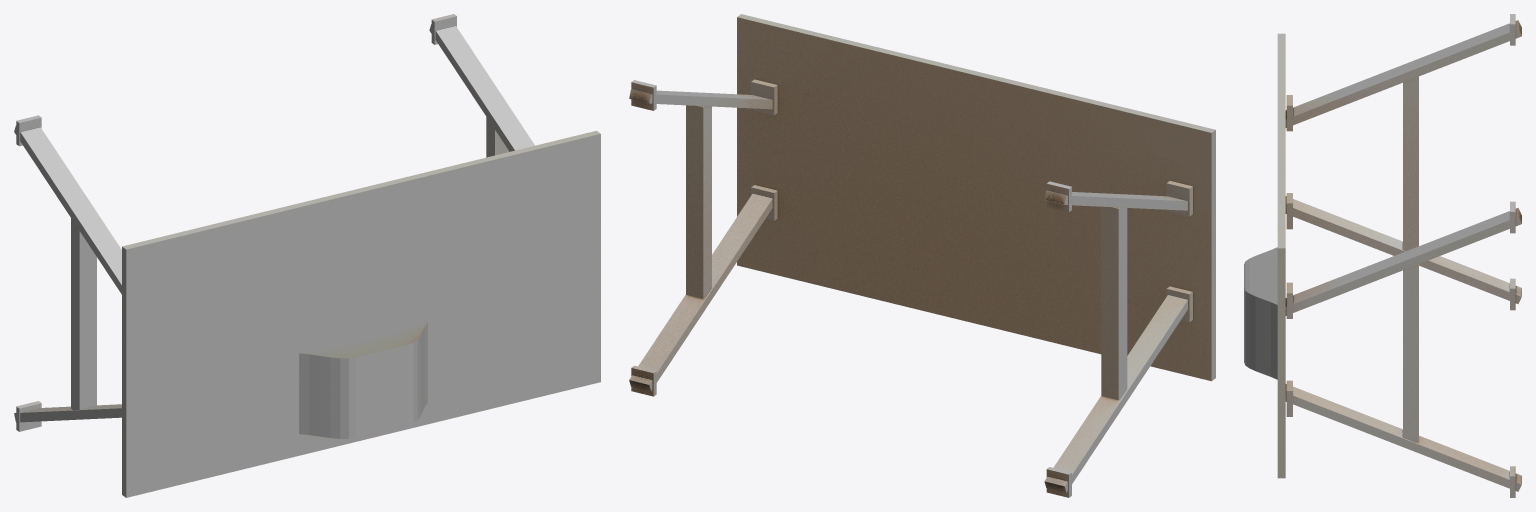
File: E1_desk_final_3.obj
The picture shows the model from 3 angles, left to right: view 1: azimuth 30°, elevation 25°; view 2: azimuth 150°, elevation 25°; view 3: azimuth 270°, elevation 25°; orthographic projection. The views are drawn at different scales.
Parts seen in each view (by area): view 1: E1_desk_final_3.001; view 2: E1_desk_final_3.001; view 3: E1_desk_final_3.001.
Part boxes in pixels (box(x1,y1,x2,y2)): E1_desk_final_3.001: box(14, 14, 600, 497); E1_desk_final_3.001: box(629, 14, 1215, 497); E1_desk_final_3.001: box(1244, 14, 1521, 497).
Size of the model in its own units: 1.6 by 0.995 by 0.8755.
1 material, 1 textured.
